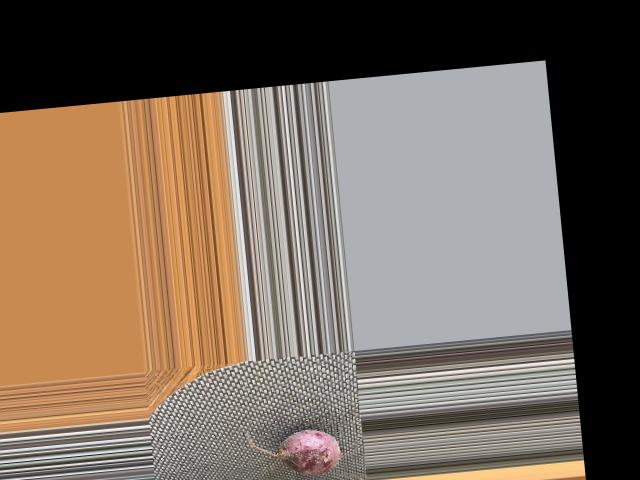beet: (245, 421, 341, 480)
